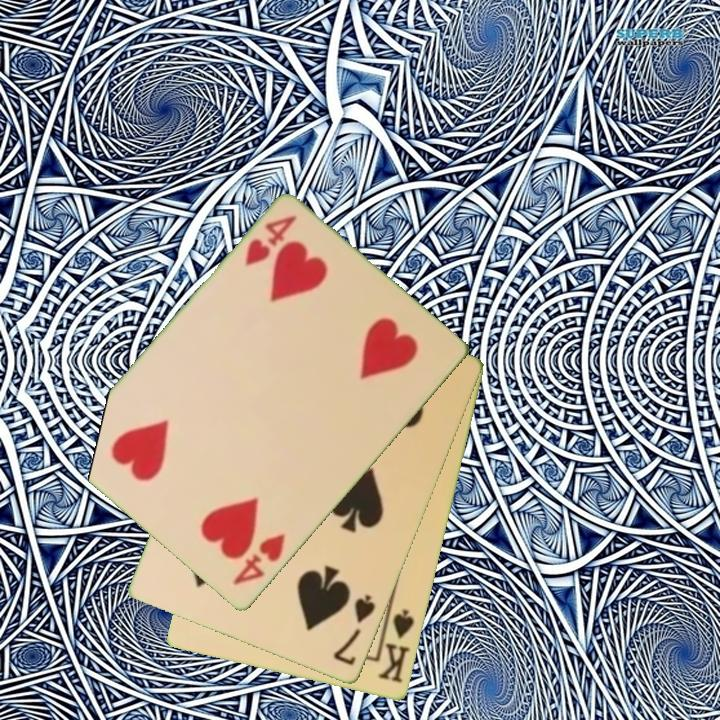4h: (229, 530, 289, 589), (241, 212, 300, 270)
7s: (330, 591, 379, 669)
Ks: (375, 606, 418, 687)
